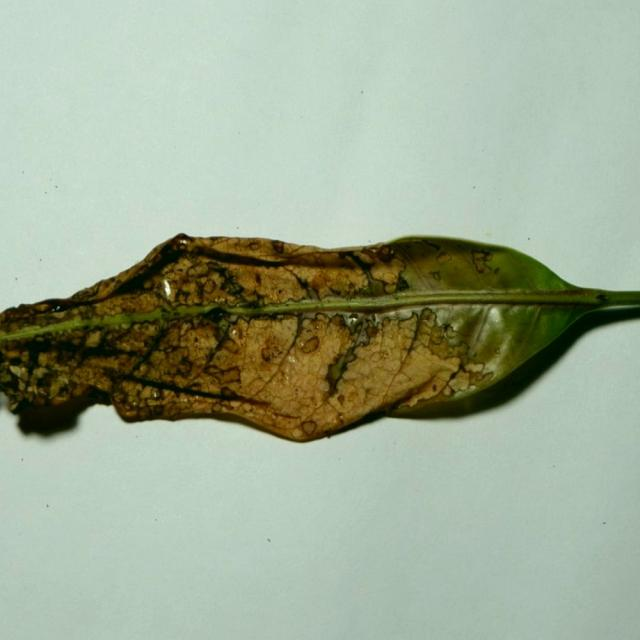Anthracnose: (292, 321, 353, 378), (423, 243, 500, 285), (421, 314, 469, 362), (147, 300, 229, 325), (288, 319, 332, 358), (18, 333, 58, 364), (431, 249, 456, 284), (356, 245, 398, 265), (309, 272, 336, 293), (260, 341, 284, 363), (217, 365, 241, 382), (38, 372, 58, 391), (472, 370, 494, 386), (186, 263, 207, 278), (443, 325, 461, 342), (419, 308, 437, 325), (419, 239, 442, 252), (175, 359, 192, 376), (111, 388, 129, 404), (223, 338, 240, 354), (174, 288, 191, 304), (309, 318, 327, 333), (355, 251, 374, 264), (301, 420, 317, 435), (203, 364, 223, 376), (329, 314, 347, 327), (202, 279, 217, 294), (319, 388, 333, 404), (436, 250, 452, 263), (207, 372, 223, 385), (32, 335, 49, 347), (219, 387, 237, 398), (365, 317, 379, 331), (314, 313, 330, 325), (366, 325, 380, 338), (346, 390, 360, 403), (34, 392, 48, 405), (272, 240, 285, 253), (430, 334, 443, 346), (233, 327, 244, 341), (291, 426, 305, 437), (385, 282, 397, 294), (429, 270, 442, 281), (247, 241, 261, 251), (254, 272, 263, 285), (213, 295, 226, 304), (176, 238, 189, 247), (142, 280, 153, 290), (150, 388, 160, 399), (443, 385, 453, 396), (153, 405, 164, 415), (347, 313, 359, 322), (484, 252, 494, 262), (287, 354, 297, 364), (212, 403, 223, 412), (338, 251, 348, 260), (388, 248, 396, 258), (337, 394, 345, 404), (131, 399, 139, 407), (431, 383, 438, 392), (193, 337, 199, 344), (495, 348, 501, 354)
Lemon: (0, 235, 639, 445)
